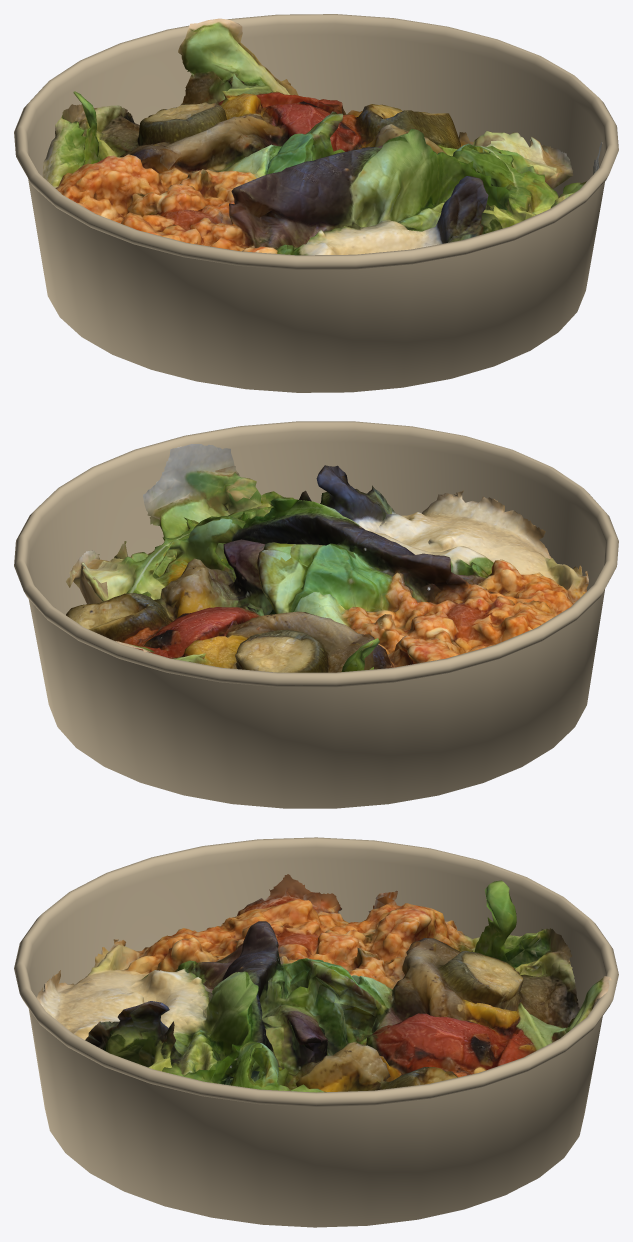
The model's file is salad-chinoise-d67cafaf.glb.
3 renders of one model, top to bottom at view 1: azimuth 30°, elevation 25°; view 2: azimuth 150°, elevation 25°; view 3: azimuth 270°, elevation 25°, orthographic.
Parts seen in each view (by area): view 1: Circle, Lowpoly; view 2: Circle, Lowpoly; view 3: Circle, Lowpoly.
Boxes of the visible parts, box(x1,y1,x2,y2) form: Circle: box(14, 14, 618, 392); Lowpoly: box(42, 18, 602, 255); Circle: box(14, 421, 618, 808); Lowpoly: box(66, 444, 588, 672); Circle: box(14, 837, 618, 1227); Lowpoly: box(36, 874, 611, 1092).
Bounding box in the file's own units: 0.2779 × 0.0819 × 0.2779.
2 materials, 1 textured.
